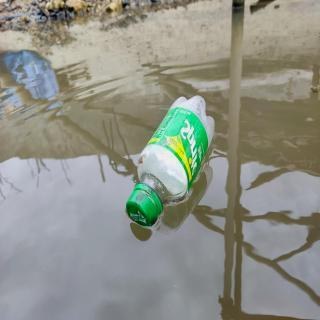bottle: (124, 92, 216, 231)
